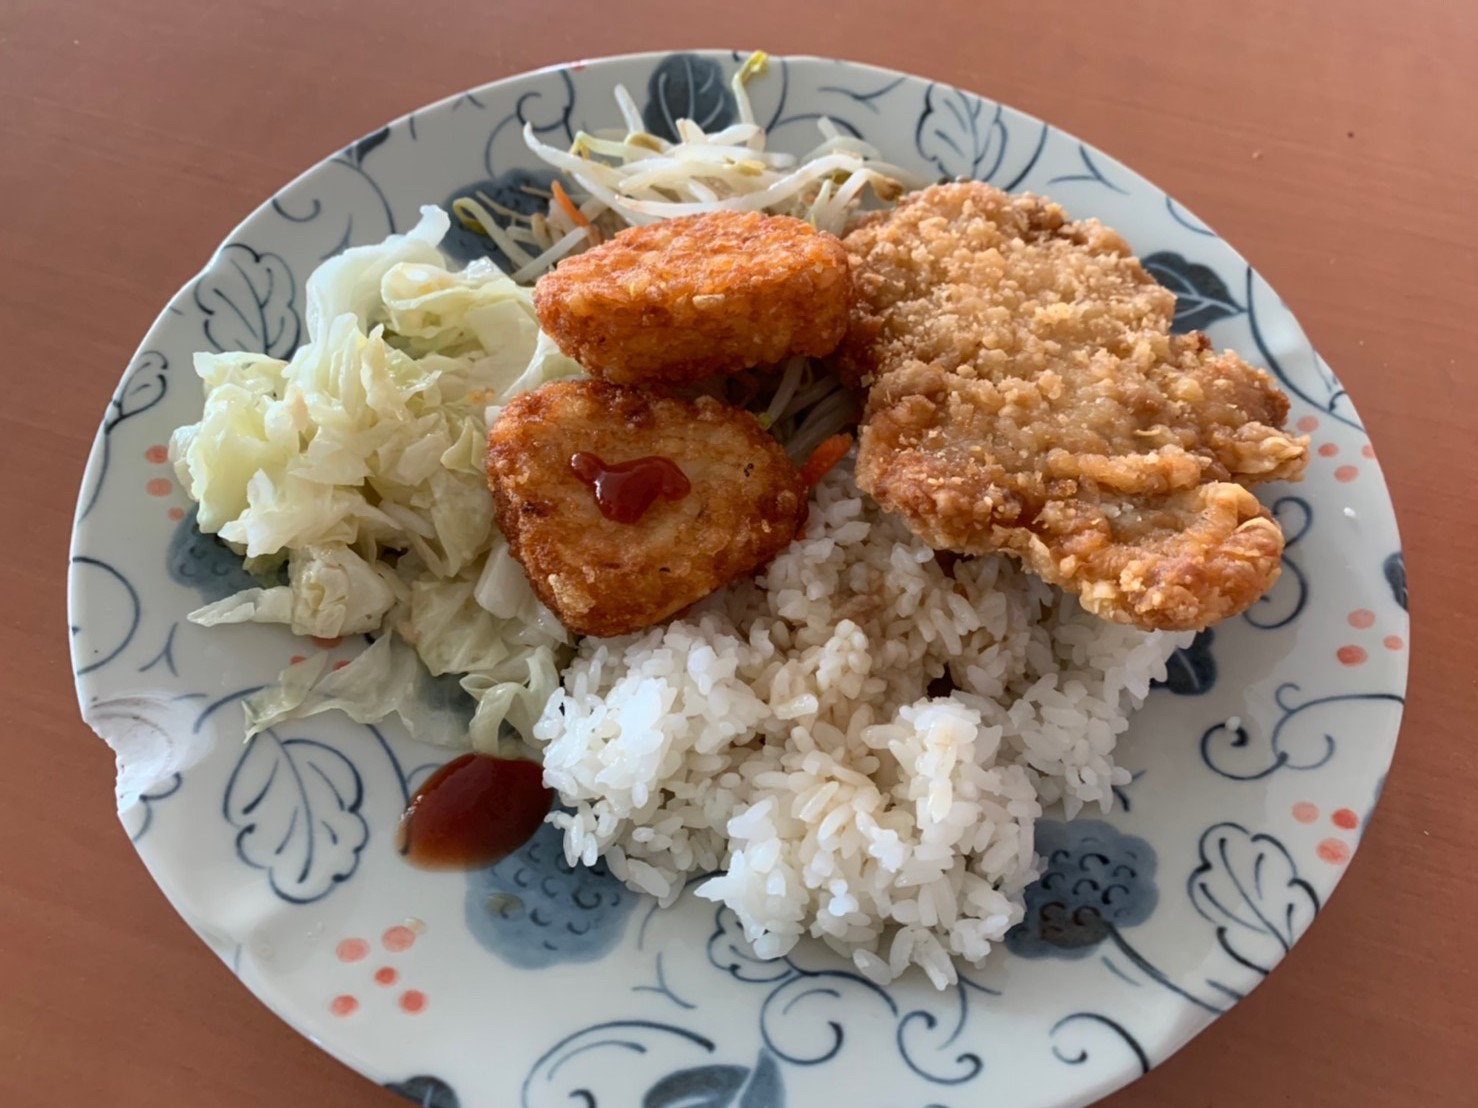chinese_cabbage: (229, 260, 533, 687)
fried_chicken: (860, 196, 1276, 608)
mung_bean_sprouts: (552, 102, 876, 216)
rice: (580, 598, 1100, 911)
triangle_hash_brown: (516, 229, 844, 604)
